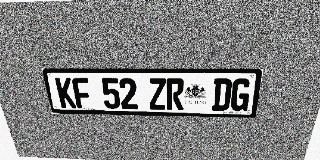2: (119, 78, 138, 109)
5: (101, 78, 121, 109)
D: (211, 78, 233, 111)
F: (71, 78, 93, 108)
G: (229, 78, 252, 111)
K: (55, 78, 77, 108)
R: (166, 78, 184, 110)
Z: (148, 78, 166, 110)
